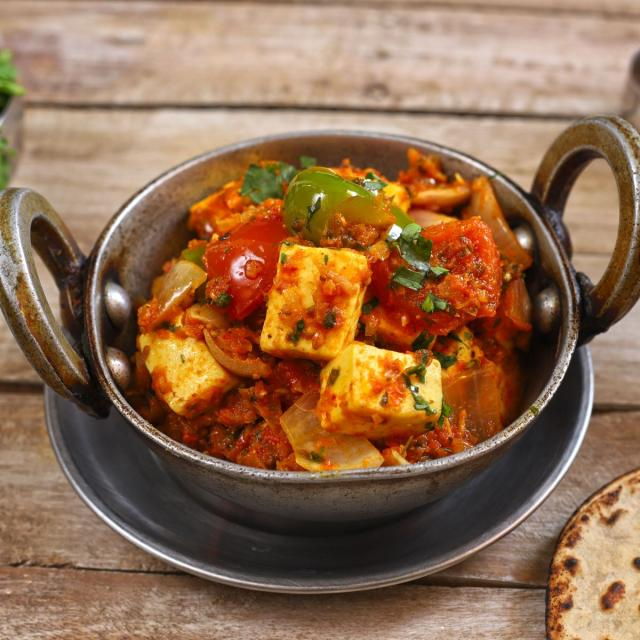panneer: (166, 230, 504, 444)
